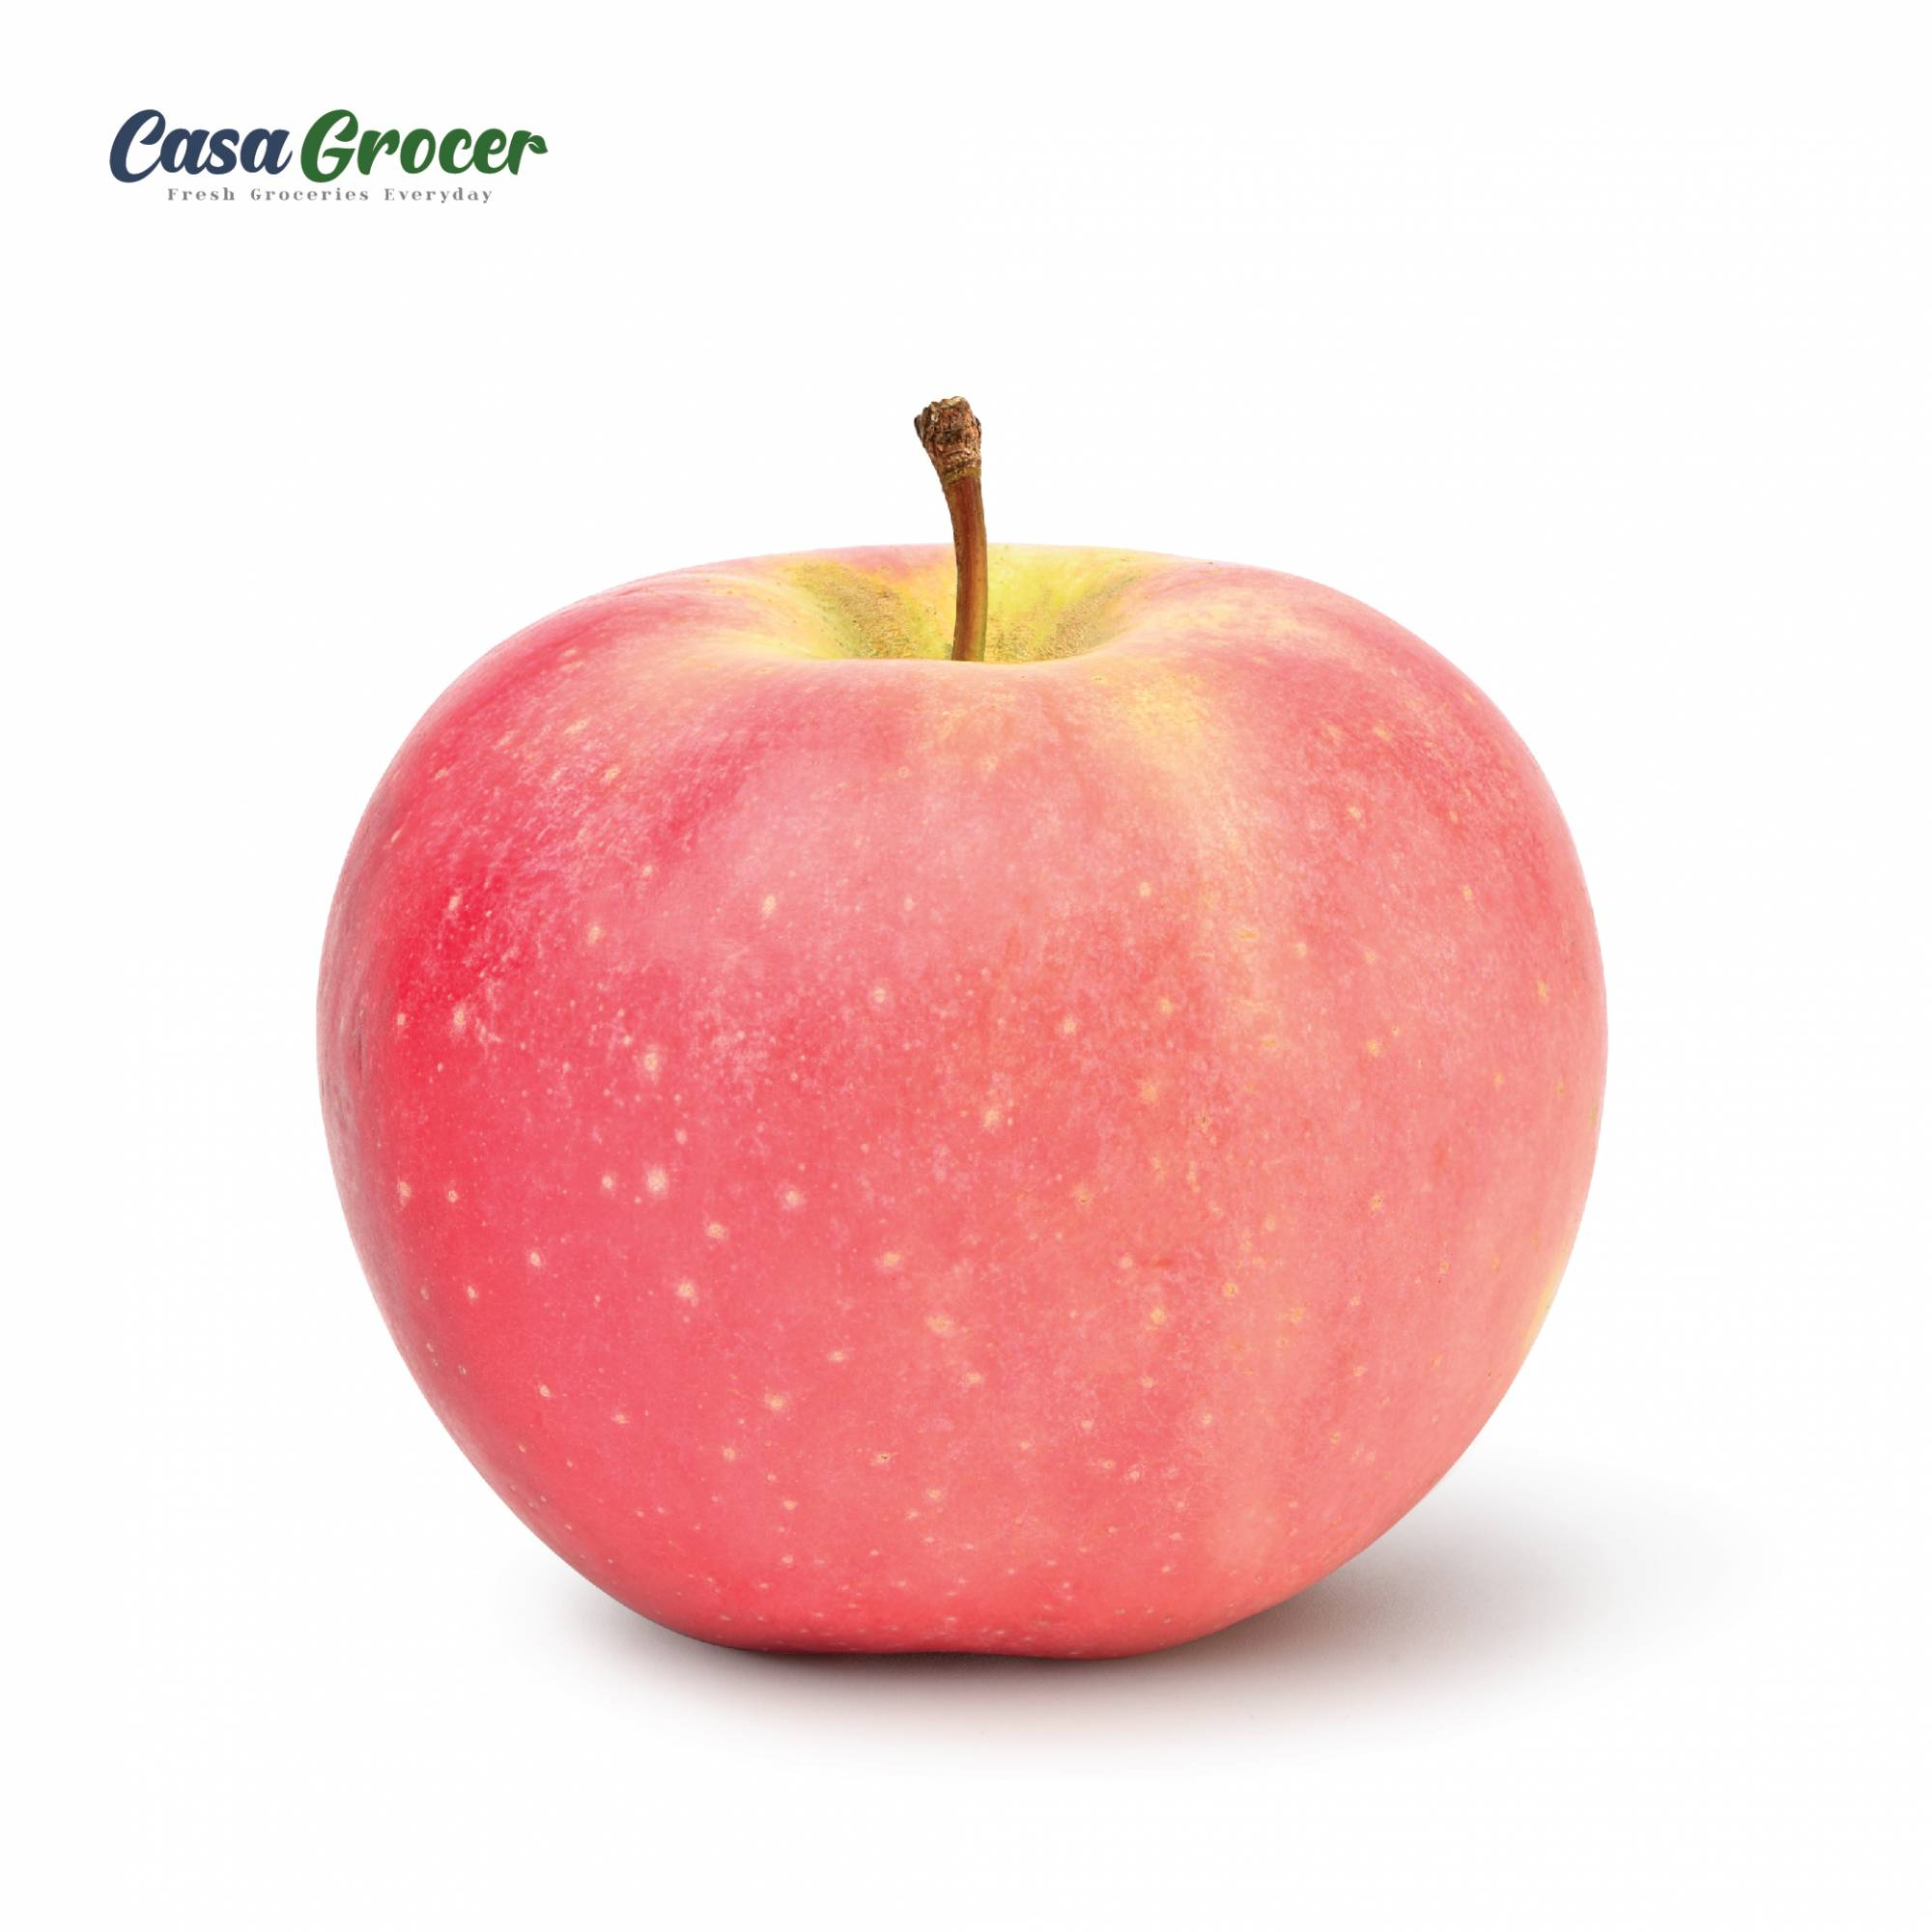apple: (310, 384, 1617, 1668)
